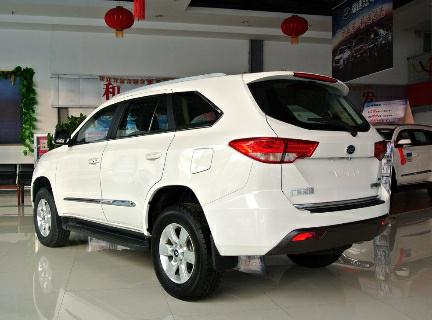福迪-揽福: (25, 67, 395, 304)
